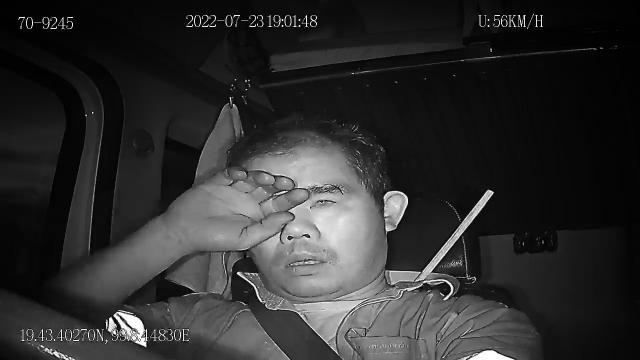SafeDriving: (307, 190, 344, 211)
Seatbelt: (248, 300, 344, 360)
